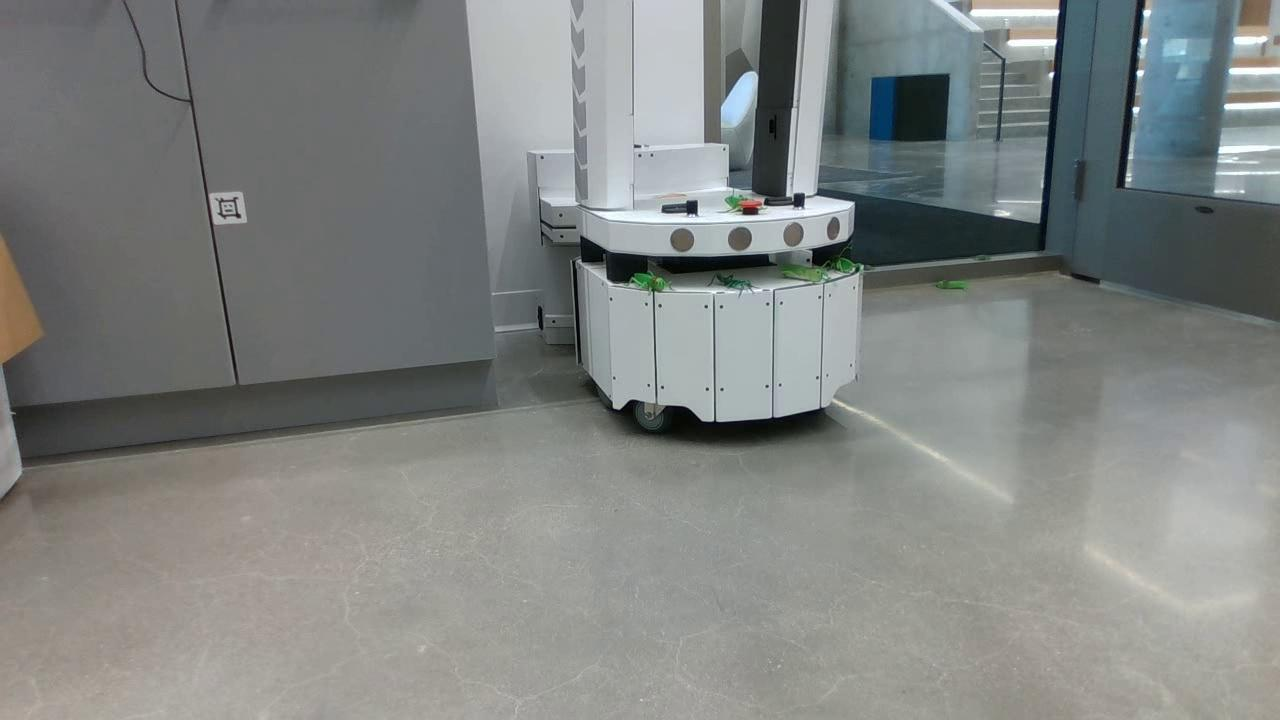grasshopper: (775, 255, 829, 286), (619, 268, 667, 294), (820, 245, 863, 274), (720, 190, 766, 211), (927, 276, 965, 292)
